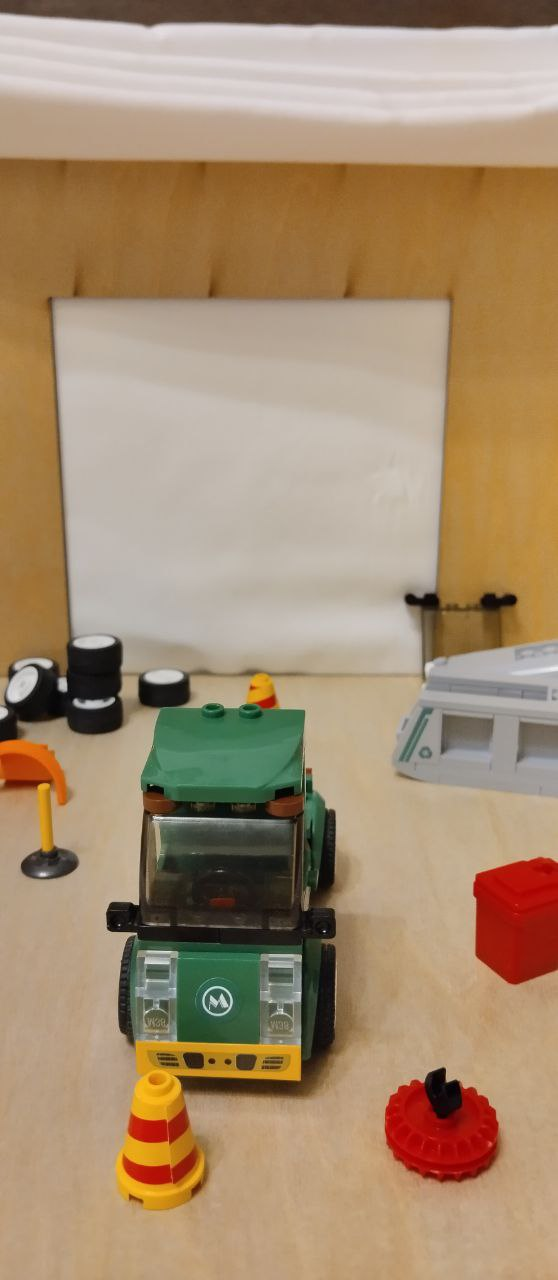Cone: (111, 1062, 218, 1212), (241, 668, 283, 710)
Object Red: (469, 851, 558, 986)
Truck: (108, 695, 363, 1078)
